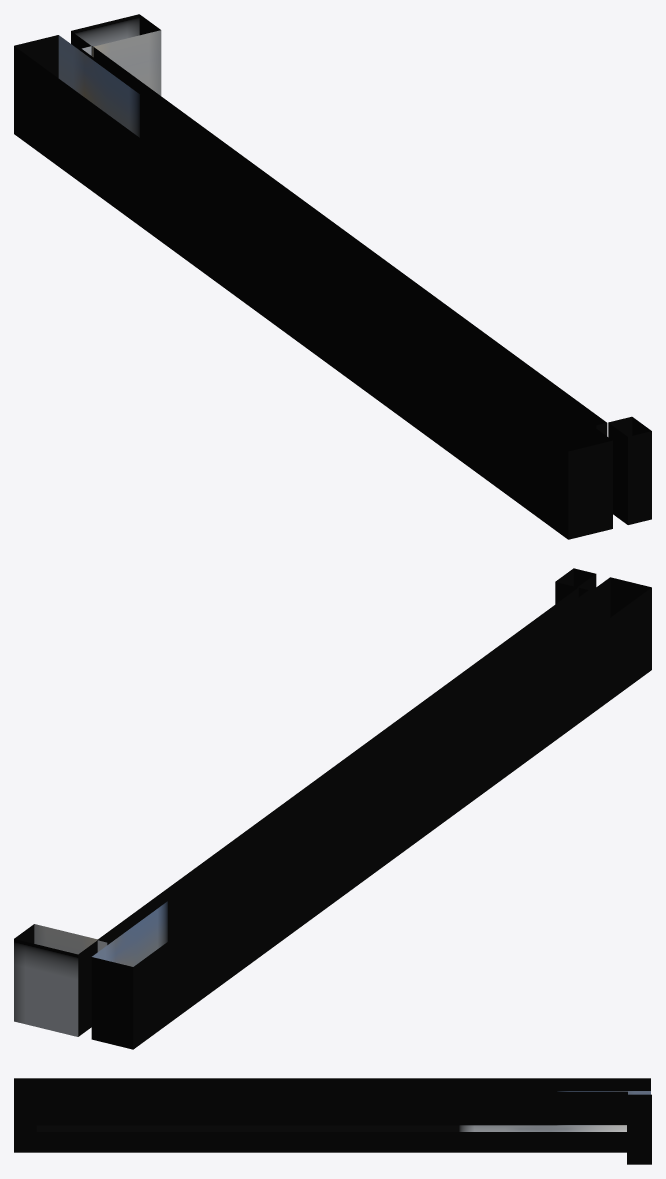
The model's file is section-2.obj.
3 renders of one model, top to bottom at view 1: azimuth 30°, elevation 25°; view 2: azimuth 150°, elevation 25°; view 3: azimuth 270°, elevation 25°, orthographic. The views are drawn at different scales.
Bounding box in the file's own units: 0.1697 × 0.1132 × 1.29.
